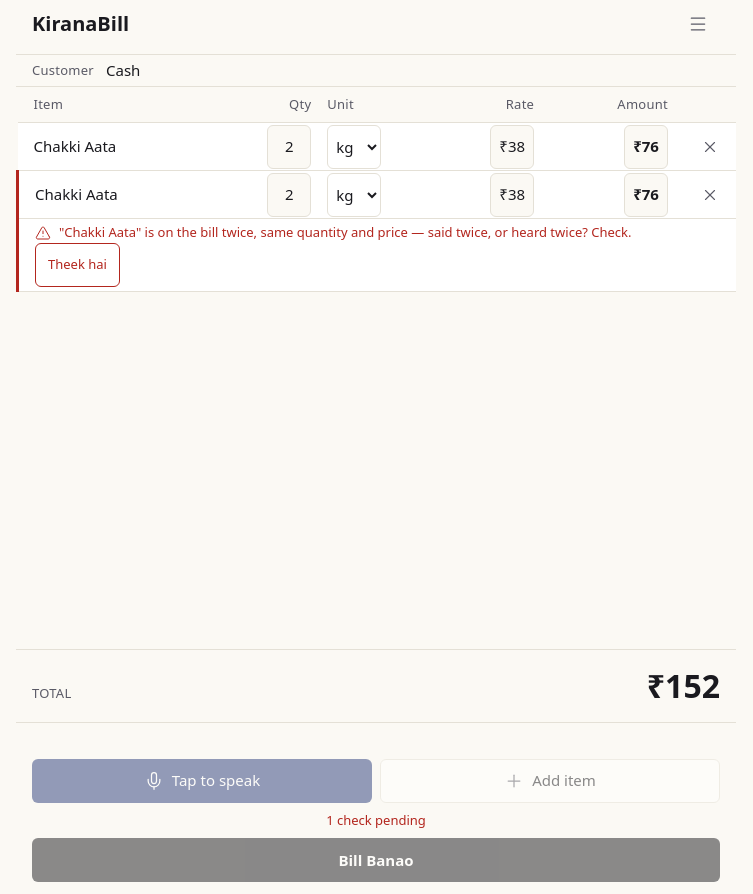
Test: KB-304 - HIGH: inline sentence, icon, 'Theek hai', blocks until acknowledged › an edit to the line lapses its acknowledgement: qty 3 clears the duplicate; back to 2, it returns UN-acknowledged
Click the button "Theek hai" at [77, 264], box [35,242,120,286]
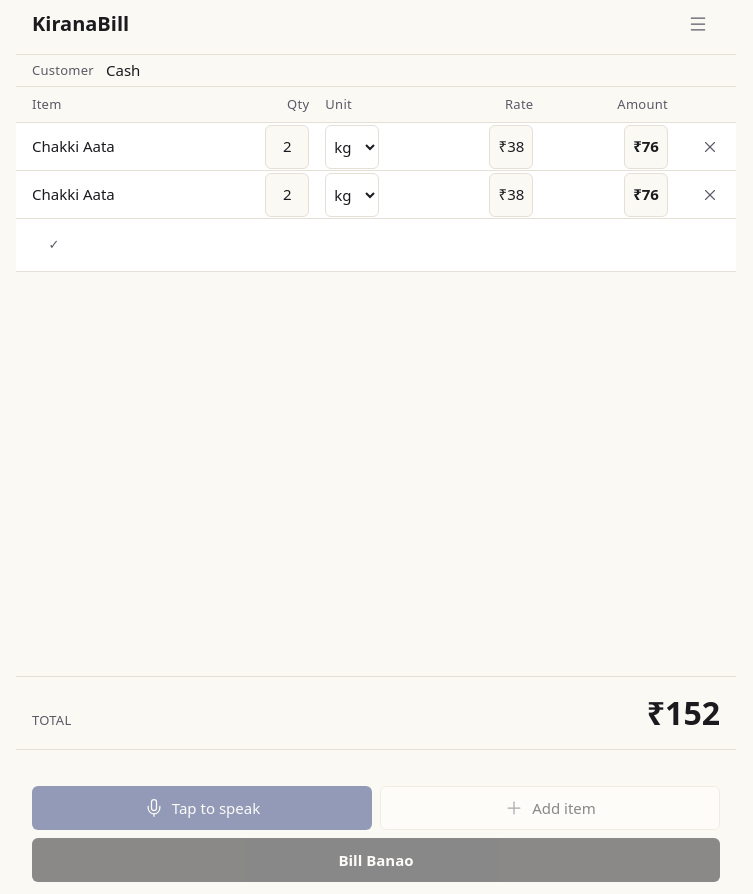
Click the button named "Chakki Aata quantity" at [287, 194], box [265,172,309,216]
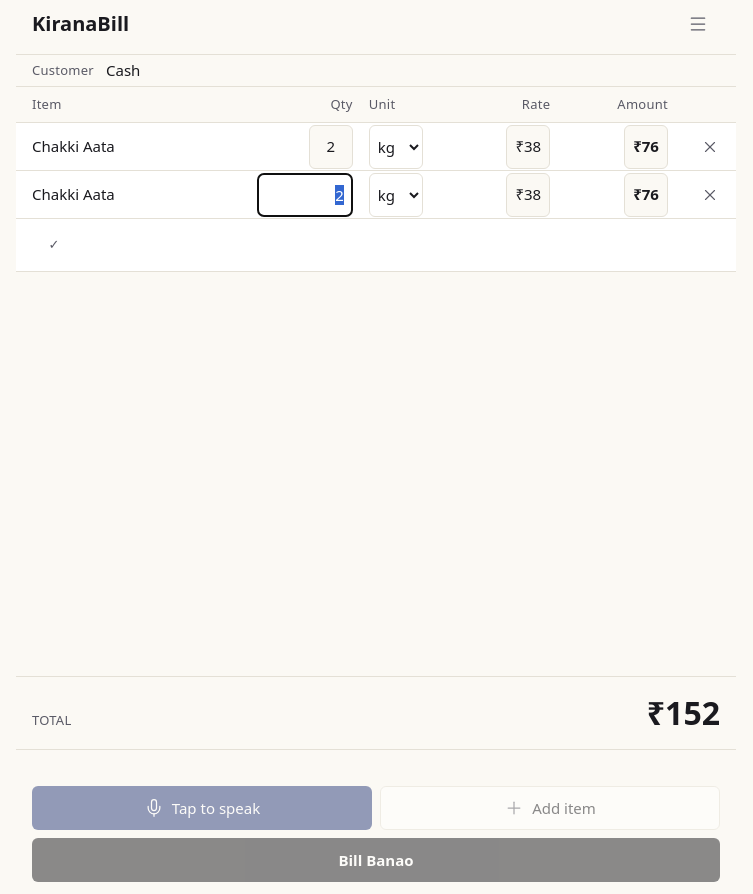
Replace the text in the field named "Chakki Aata quantity" with "3" at [305, 194], box [257,172,353,216]
Press Enter in the field named "Chakki Aata quantity", box [257,172,353,216]
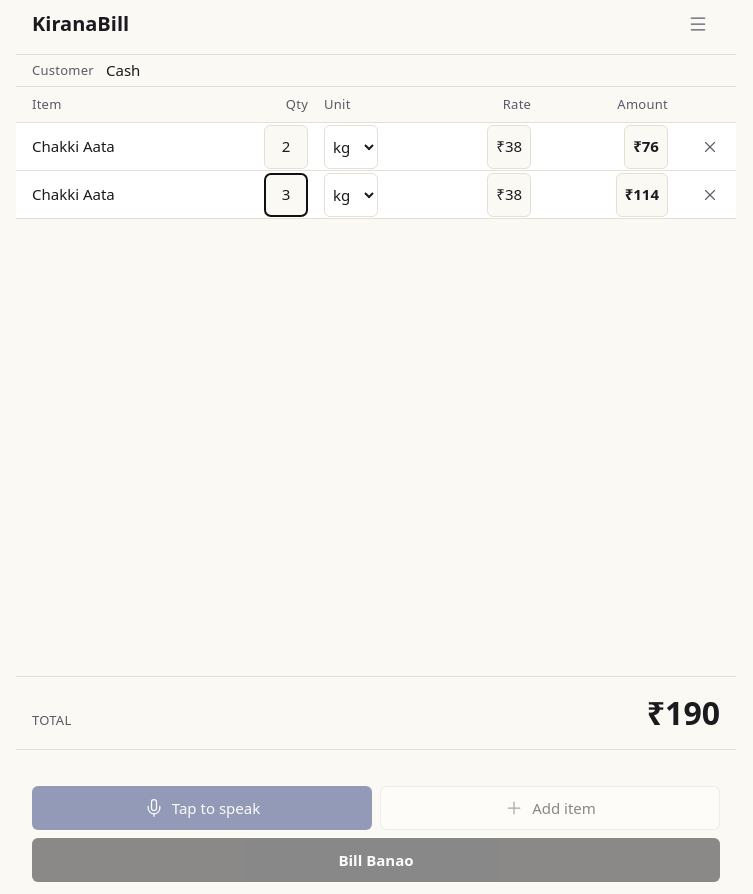
Click the button named "Chakki Aata quantity" at [286, 194], box [264,172,308,216]
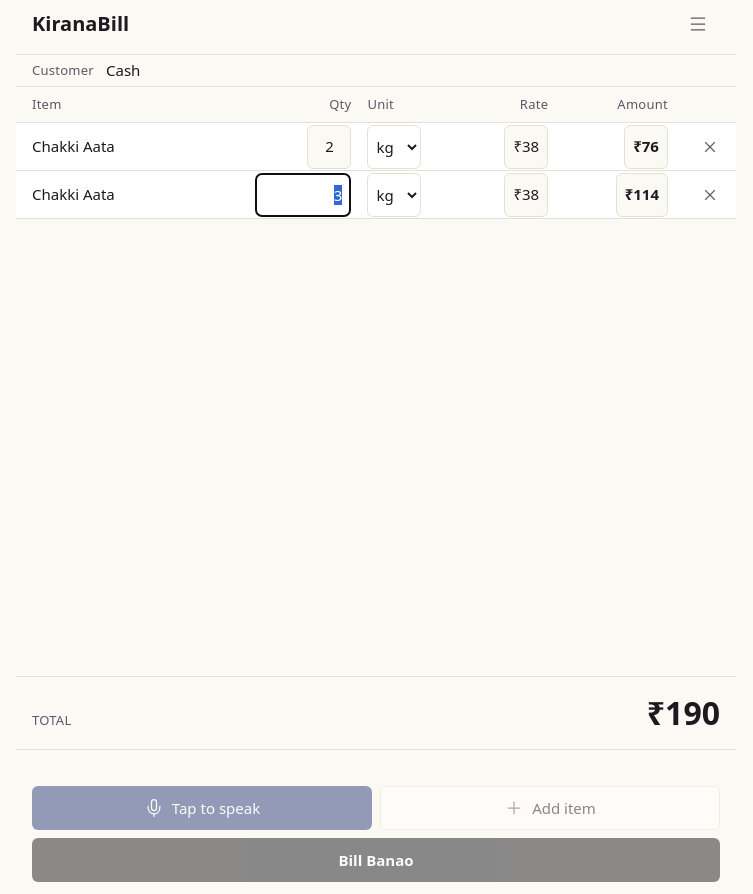
Replace the text in the field named "Chakki Aata quantity" with "2" at [303, 194], box [255,172,351,216]
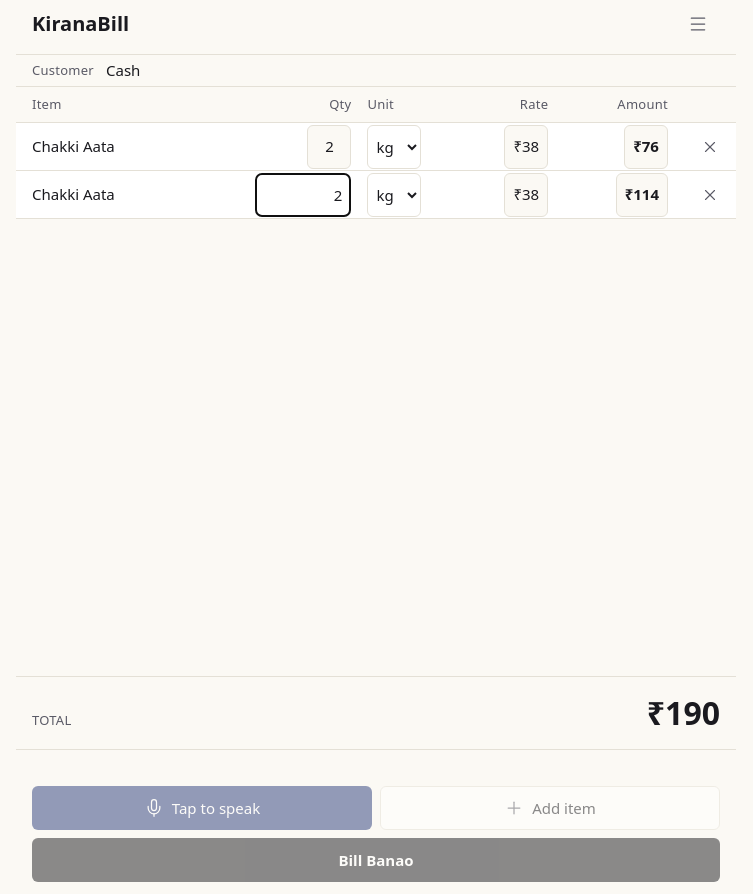
Press Enter in the field named "Chakki Aata quantity", box [255,172,351,216]
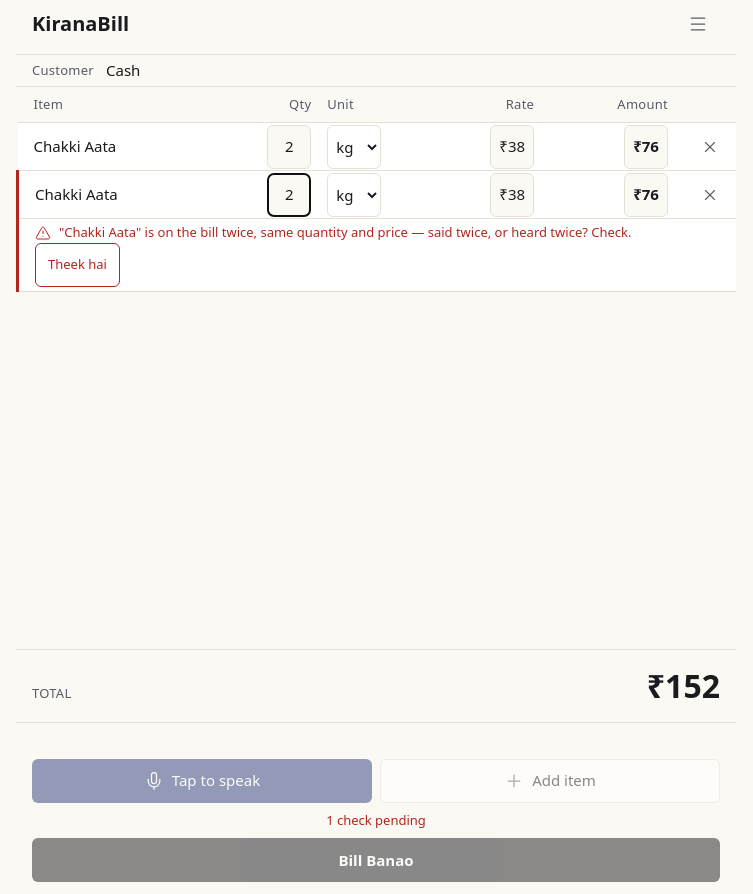
Now the button "Theek hai" is shown, box [35,242,120,286]
Now the text with test id "checks-pending" reads "1 check pending", box [326,810,426,828]
